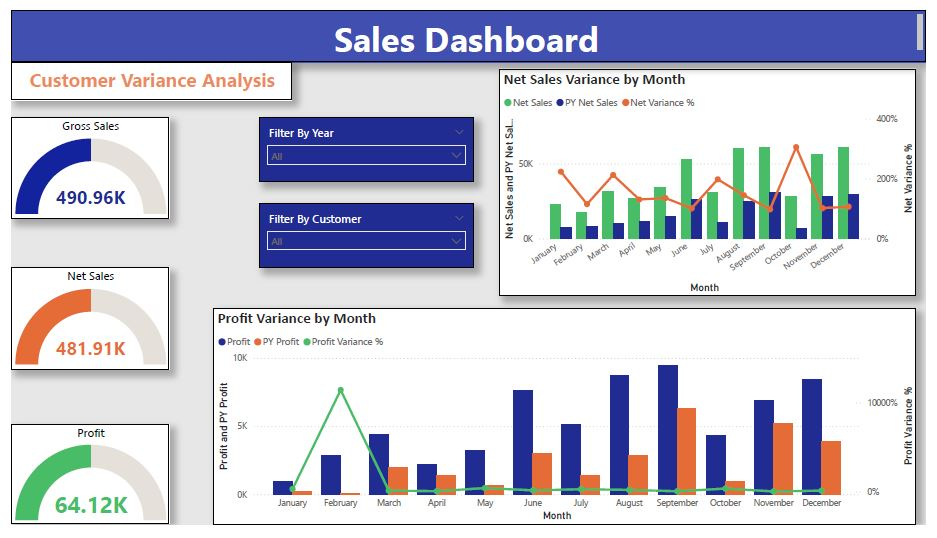

The dashboard page shown, as its layout file describes it:
{"tool":"powerbi","page":{"name":"Customer Variance Analysis","canvas":[1280,720],"ordinal":0},"visuals":[{"type":"lineClusteredColumnComboChart","title":"Gross Sales Variance by Month","fields":{"Category":["Table1.Order Date.Variation.Date Hierarchy.Month"],"Y":["All Measures.Gross Sales","All Measures.PY Gross Sales"],"Y2":["All Measures.Gross Variance %"]},"box":[769.8,72.7,510.2,315.9],"z":0},{"type":"slicer","fields":{"Values":["Table1.Order Date.Variation.Date Hierarchy.Year"]},"box":[347.1,149.8,299.6,90.5],"z":1000},{"type":"slicer","title":"Filter by Customer","fields":{"Values":["Table1.Customer Name"]},"box":[347.1,269.9,299.6,90.5],"z":2000},{"type":"lineClusteredColumnComboChart","title":"Profit Variance by Month","fields":{"Category":["Table1.Order Date.Variation.Date Hierarchy.Month"],"Y":["All Measures.Profit","All Measures.PY Profit"],"Y2":["All Measures.Profit Variance %"]},"box":[237.3,401.9,519.1,317.4],"z":3000},{"type":"lineClusteredColumnComboChart","title":"Net Sales Variance by Month","fields":{"Category":["Table1.Order Date.Variation.Date Hierarchy.Month"],"Y":["All Measures.Net Sales","All Measures.PY Net Sales"],"Y2":["All Measures.Net Variance %"]},"box":[769.8,401.9,510.2,317.4],"z":4000},{"type":"textbox","box":[0,0,1280,72.7],"z":5000},{"type":"textbox","box":[0,72.7,393,53.4],"z":6000},{"type":"gauge","fields":{"Y":["All Measures.Gross Sales"]},"box":[0,149.8,221,142.4],"z":7000},{"type":"gauge","fields":{"Y":["All Measures.Net Sales"]},"box":[0,360.4,221,142.4],"z":8000},{"type":"gauge","fields":{"Y":["All Measures.Profit"]},"box":[0,579.9,221,139.4],"z":9000}]}

Visuals, with their boxes in screenshot pixels (x1, y1, x2, y2), scaled from the page's 1280x720 canvas onto the 937x538 screenshot:
"Gross Sales Variance by Month" lineClusteredColumnComboChart: locate(564, 54, 936, 290)
slicer - Table1.Order Date.Variation.Date Hierarchy.Year: locate(254, 112, 473, 180)
"Filter by Customer" slicer: locate(254, 202, 473, 269)
"Profit Variance by Month" lineClusteredColumnComboChart: locate(174, 300, 554, 537)
"Net Sales Variance by Month" lineClusteredColumnComboChart: locate(564, 300, 936, 537)
textbox: locate(0, 0, 936, 54)
textbox: locate(0, 54, 288, 94)
gauge - All Measures.Gross Sales: locate(0, 112, 162, 218)
gauge - All Measures.Net Sales: locate(0, 269, 162, 376)
gauge - All Measures.Profit: locate(0, 433, 162, 537)
